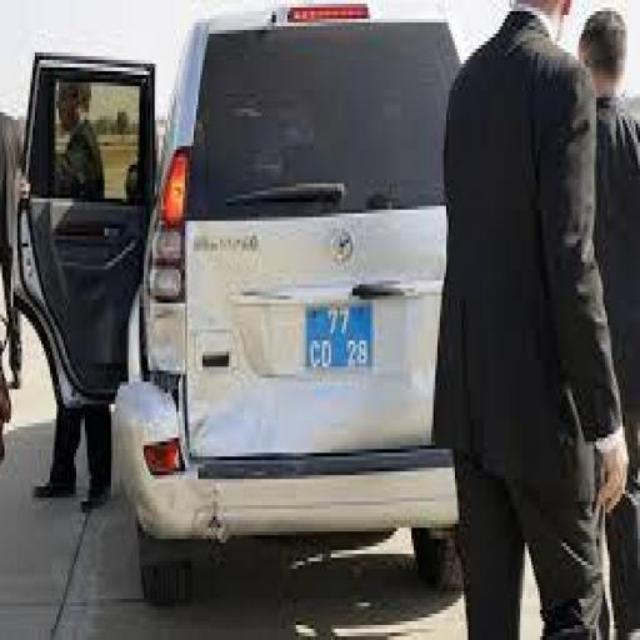dislocated part: (116, 298, 248, 550)
